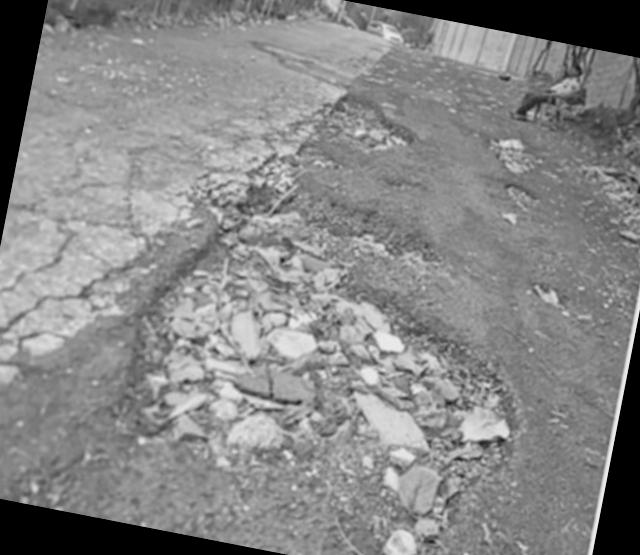Pothole: (100, 133, 567, 555), (310, 76, 450, 174), (496, 171, 550, 224)
